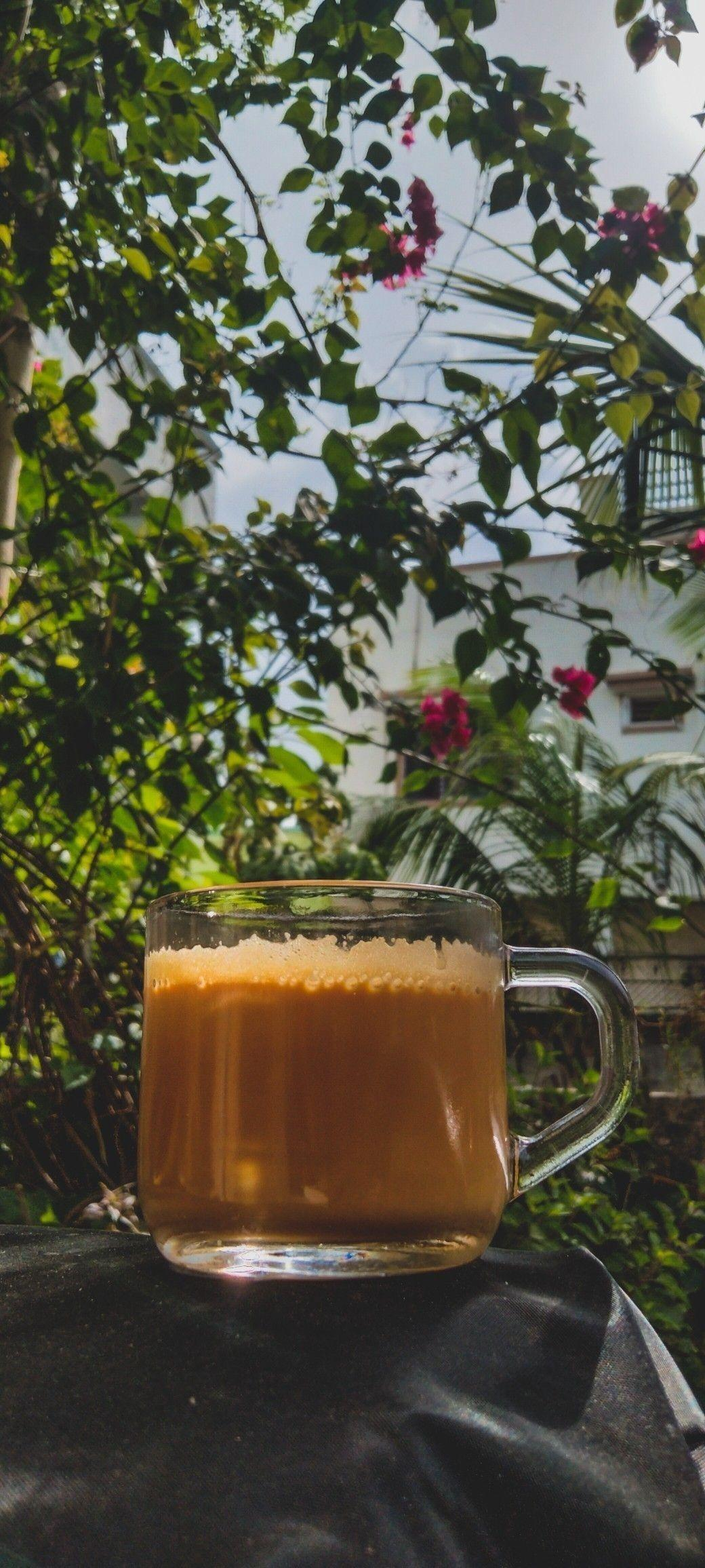glass-mug: (115, 867, 650, 1292)
